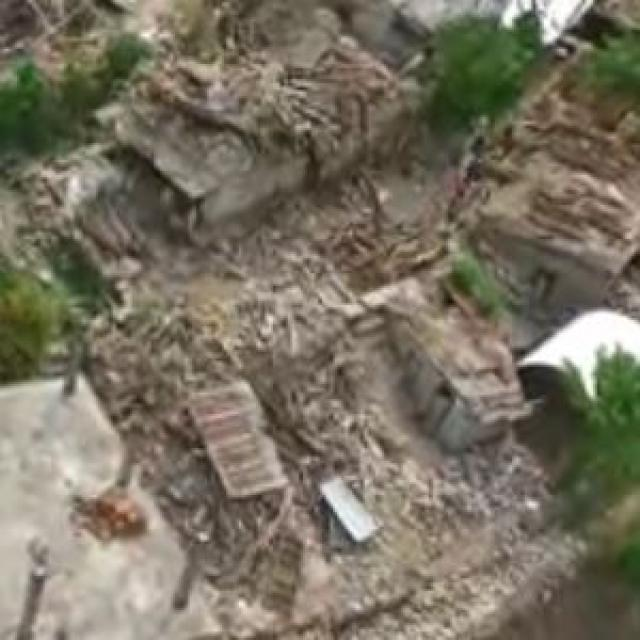collapsed_building: (192, 60, 638, 576), (4, 0, 520, 230)
